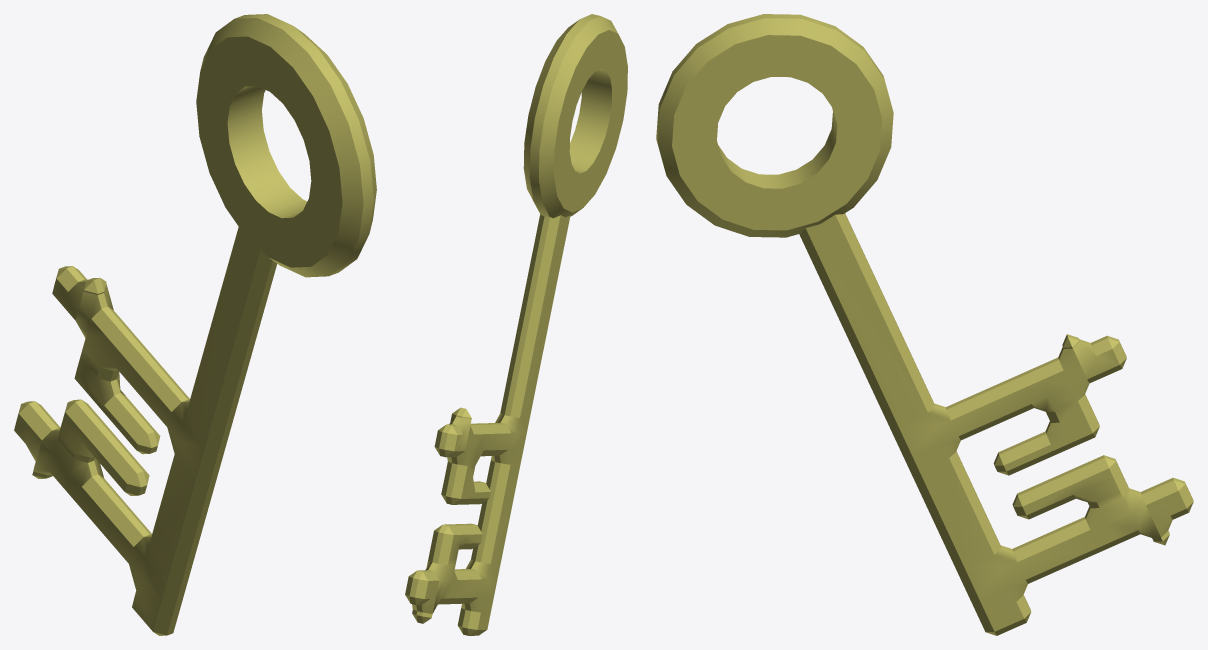
Rendered from KeyAnimation2.fbx.
The picture shows the model from 3 angles, left to right: view 1: azimuth 30°, elevation 25°; view 2: azimuth 150°, elevation 25°; view 3: azimuth 270°, elevation 25°; orthographic projection. The views are drawn at different scales.
Visible parts, largest first — view 1: KeyBody, KeyHandle; view 2: KeyBody, KeyHandle; view 3: KeyBody, KeyHandle.
Boxes of the visible parts, x1,y1,x2,y2 form: KeyBody: (14, 227, 276, 635); KeyHandle: (196, 14, 376, 277); KeyBody: (405, 214, 570, 635); KeyHandle: (523, 14, 627, 218); KeyBody: (799, 213, 1193, 635); KeyHandle: (656, 14, 893, 237).
Bounding box in the file's own units: 0.3832 × 3.71 × 2.94.
